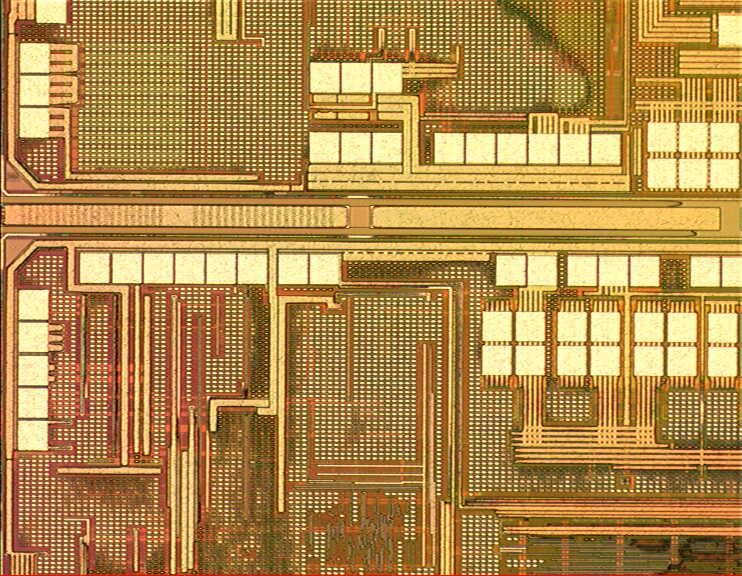COATING BAD: (11, 1, 742, 576)
